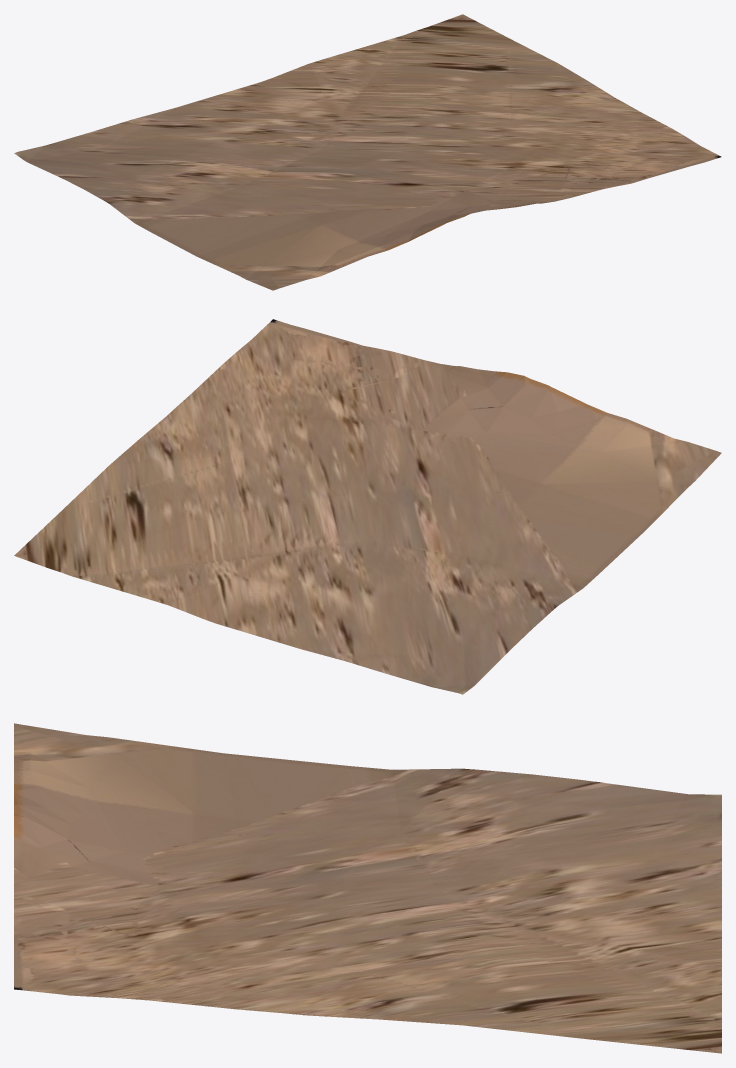
3 views of the same model, one above another, from view 1: azimuth 30°, elevation 25°; view 2: azimuth 150°, elevation 25°; view 3: azimuth 270°, elevation 25° (orthographic). The views are drawn at different scales.
Size of the model in its own units: 4.18 by 0.721 by 4.18.
3 materials, 3 textured.
